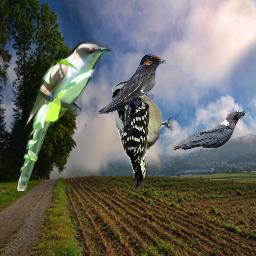Crow: (172, 111, 246, 151)
Cuckoo: (16, 42, 113, 191)
Swallow: (98, 54, 166, 114)
Woodpecker: (110, 78, 179, 191)
